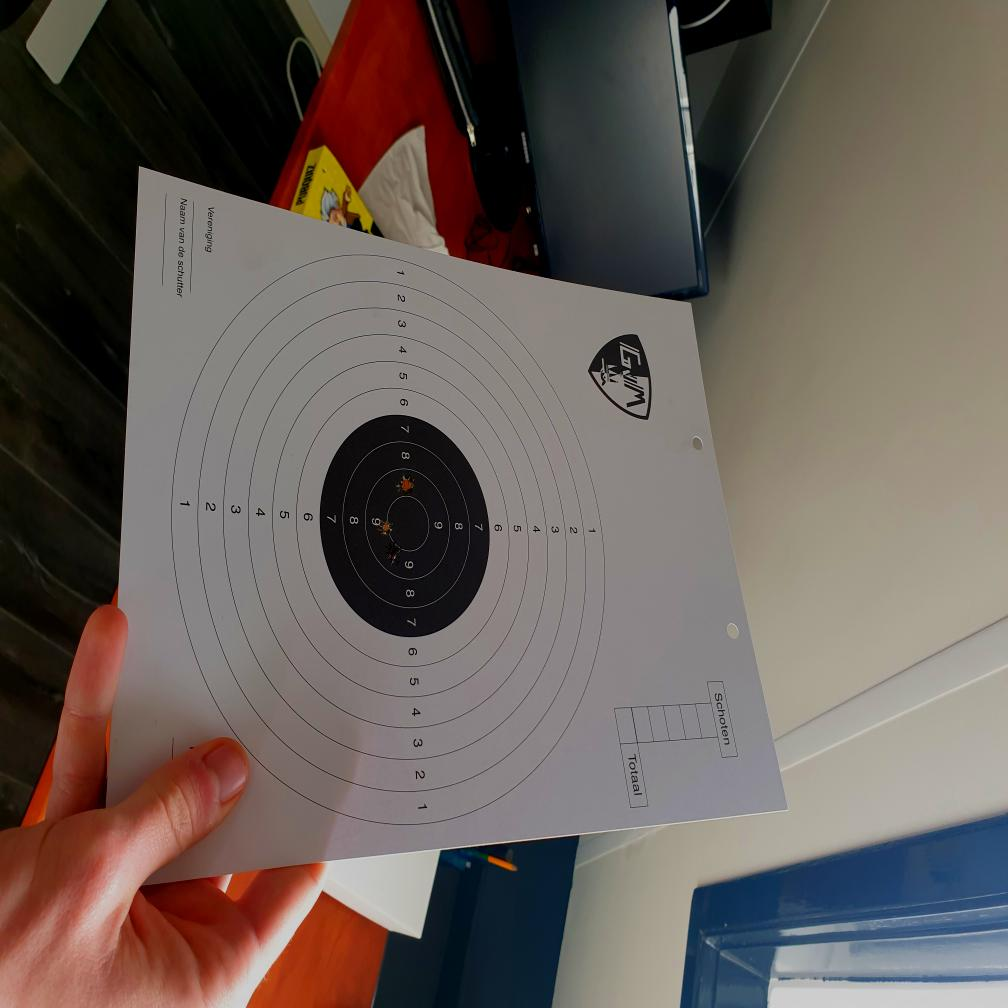10: (385, 540, 402, 567), (376, 518, 394, 536)
9: (396, 473, 415, 496)
Target: (171, 255, 607, 827)
black_contour: (320, 415, 490, 637)
